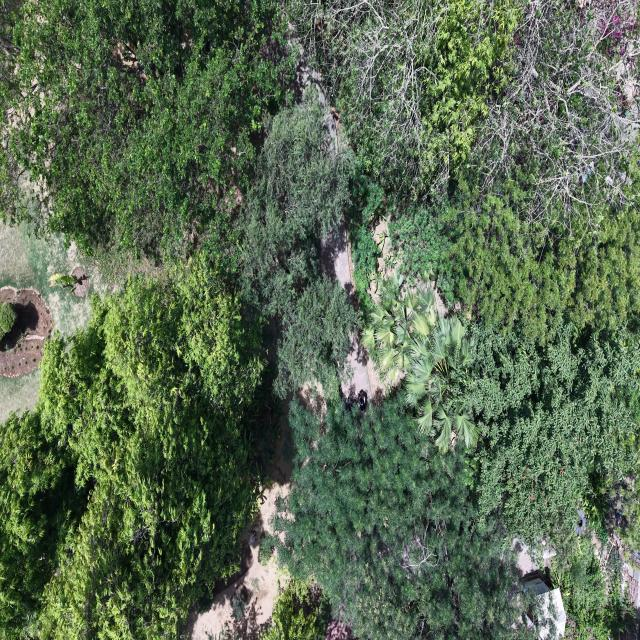DRY_AREA: (188, 396, 292, 639), (188, 399, 292, 639), (188, 440, 291, 639), (189, 443, 290, 639), (189, 446, 290, 639), (0, 221, 102, 336), (0, 287, 52, 378), (369, 218, 401, 303), (344, 335, 371, 398)
VEGETATION_TREE: (0, 0, 639, 639), (0, 2, 356, 392), (289, 2, 639, 340), (265, 327, 639, 638), (0, 261, 263, 639), (390, 3, 639, 341), (364, 275, 639, 538), (0, 0, 283, 255), (452, 2, 639, 339), (275, 398, 527, 638), (390, 149, 639, 341), (291, 0, 519, 192), (465, 325, 639, 538), (448, 150, 639, 340), (243, 87, 357, 394), (243, 87, 351, 313), (363, 273, 477, 452), (0, 412, 88, 639), (275, 277, 357, 395), (552, 540, 635, 639), (389, 194, 456, 306), (215, 577, 334, 639), (347, 173, 385, 313), (557, 549, 610, 639), (265, 579, 330, 639), (594, 472, 639, 549), (582, 472, 620, 541), (0, 302, 16, 339), (48, 273, 77, 290)
